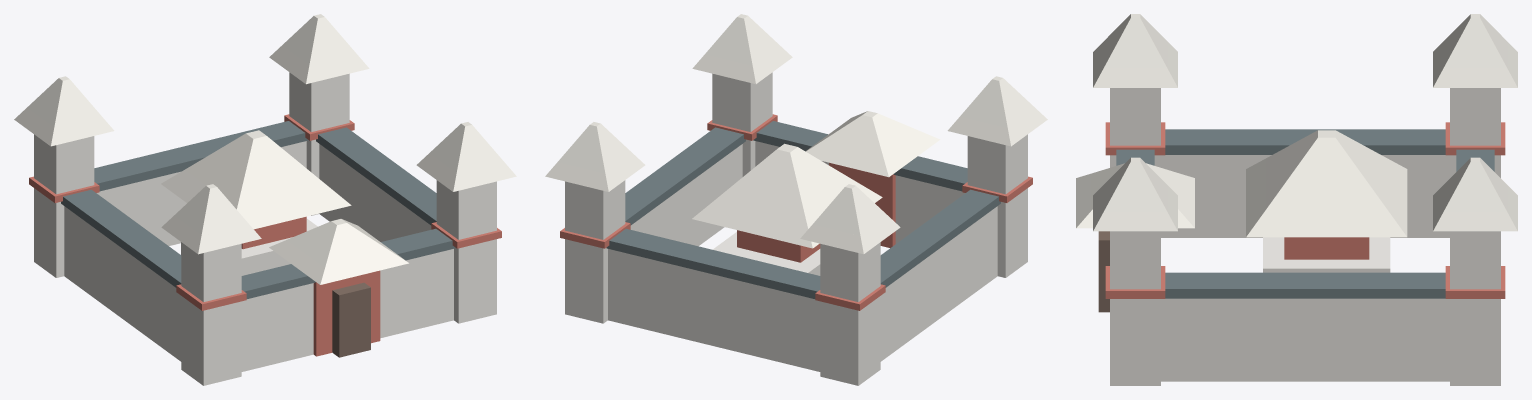
The model's file is fort.glb.
3 views of the same model, side by side, from view 1: azimuth 30°, elevation 25°; view 2: azimuth 150°, elevation 25°; view 3: azimuth 270°, elevation 25° (orthographic). The views are drawn at different scales.
Visible parts, largest first — view 1: east_asian_fort; view 2: east_asian_fort; view 3: east_asian_fort.
Boxes of the visible parts, bbox=[...] form: east_asian_fort: bbox=[14, 14, 516, 385]; east_asian_fort: bbox=[545, 14, 1047, 385]; east_asian_fort: bbox=[1076, 14, 1517, 385].
Size of the model in its own units: 0.9615 by 0.5385 by 1.
